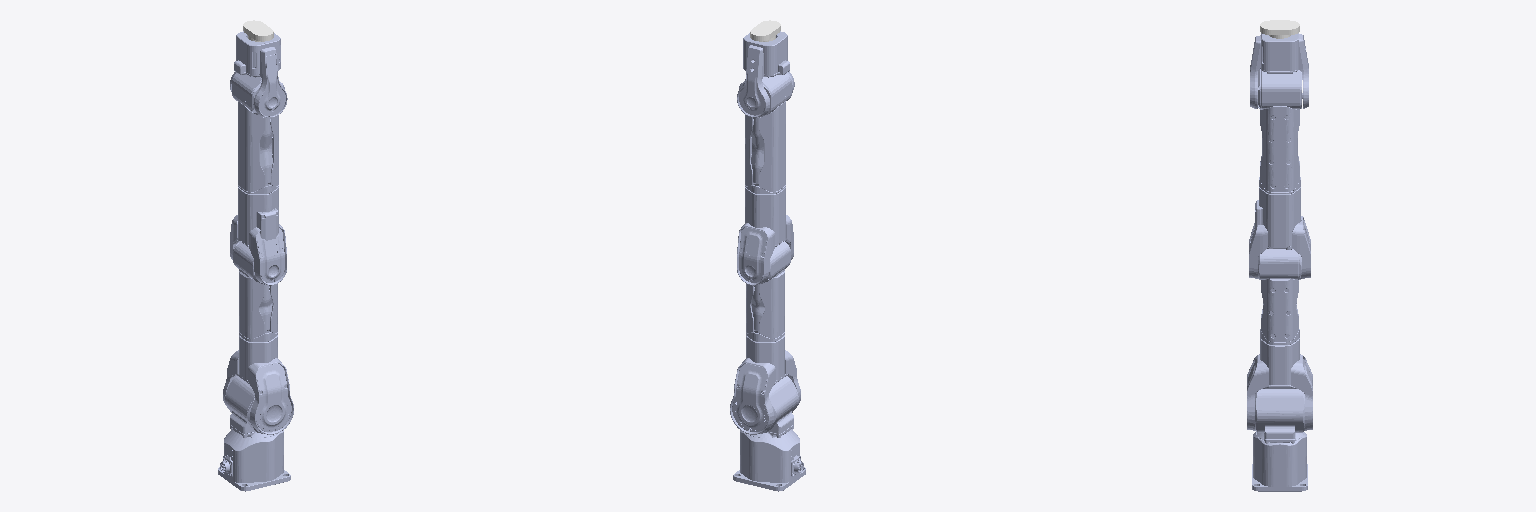
URDF robot description (xpkg_urdf_saber):
<?xml version="1.0" encoding="utf-8"?>
<!-- This URDF was automatically created by SolidWorks to URDF Exporter! Originally created by Stephen Brawner (brawner@gmail.com) 
     Commit Version: 1.6.0-4-g7f85cfe  Build Version: 1.6.7995.38578
     For more information, please see http://wiki.ros.org/sw_urdf_exporter -->
<robot name="xpkg_urdf_saber">
    <link name="base_link">
        <inertial>
            <origin xyz="0.000727949515048955 -5.69883664269332E-08 0.0406393454277163" rpy="0 0 0" />
            <mass value="0.556279812163046" />
            <inertia ixx="0.000590617003306285" ixy="4.35119563492651E-10" ixz="1.56046542788063E-05" iyy="0.0006676421462764" iyz="-8.87629683920929E-11" izz="0.000590125243389963" />
        </inertial>
        <visual>
            <origin xyz="0 0 0" rpy="0 0 0" />
            <geometry>
                <mesh filename="package://hex_ros_ik_saber_750d/urdf/meshes/base_link.STL" />
            </geometry>
             <material name="">
                <color rgba="0.792156862745098 0.819607843137255 0.933333333333333 1" />
            </material>
        </visual>
        <collision>
            <origin xyz="0 0 0" rpy="0 0 0" />
            <geometry>
                <mesh filename="package://hex_ros_ik_saber_750d/urdf/meshes/base_link.STL" />
            </geometry>
        </collision>
    </link>
    <link name="link_1">
        <inertial>
            <origin xyz="0.0380569188238271 -1.00405257210511E-05 0.00193157767349443" rpy="0 0 0" />
            <mass value="0.210052072515294" />
            <inertia ixx="0.000219613801652011" ixy="2.14295883024703E-10" ixz="-2.08661900718095E-06" iyy="0.000200657406924171" iyz="-4.75124852955826E-12" izz="0.000272022930816225" />
        </inertial>
        <visual>
            <origin xyz="0 0 0" rpy="0 0 0" />
            <geometry>
                <mesh filename="package://hex_ros_ik_saber_750d/urdf/meshes/link_1.STL" />
            </geometry>
             <material name="">
                <color rgba="0.792156862745098 0.819607843137255 0.933333333333333 1" />
            </material>
        </visual>
        <collision>
            <origin xyz="0 0 0" rpy="0 0 0" />
            <geometry>
                <mesh filename="package://hex_ros_ik_saber_750d/urdf/meshes/link_1.STL" />
            </geometry>
        </collision>
    </link>
    <joint name="joint_1" type="revolute">
        <origin xyz="0.008 0 0.085" rpy="1.5708 -1.5708 0" />
        <parent link="base_link" />
        <child link="link_1" />
        <axis xyz="1 0 0" />
        <limit lower="-2.07" upper="2.07" effort="0" velocity="0" />
    </joint>
    <link name="link_2">
        <inertial>
            <origin xyz="-1.75203555596425E-05 0.0677414565850336 0.00293368589914122" rpy="0 0 0" />
            <mass value="0.546006723511329" />
            <inertia ixx="0.000345709425927775" ixy="3.03772295527459E-08" ixz="6.84015684110725E-08" iyy="0.000191653297149786" iyz="-4.86188422315019E-08" izz="0.000455451241496624" />
        </inertial>
        <visual>
            <origin xyz="0 0 0" rpy="0 0 0" />
            <geometry>
                <mesh filename="package://hex_ros_ik_saber_750d/urdf/meshes/link_2.STL" />
            </geometry>
             <material name="">
                <color rgba="0.792156862745098 0.819607843137255 0.933333333333333 1" />
            </material>
        </visual>
        <collision>
            <origin xyz="0 0 0" rpy="0 0 0" />
            <geometry>
                <mesh filename="package://hex_ros_ik_saber_750d/urdf/meshes/link_2.STL" />
            </geometry>
        </collision>
    </link>
    <joint name="joint_2" type="revolute">
        <origin xyz="0.048 0 0" rpy="0 0 -1.5708" />
        <parent link="link_1" />
        <child link="link_2" />
        <axis xyz="0 0 -1" />
        <limit lower="-1.57" upper="1.57" effort="0" velocity="0" />
    </joint>
    <link name="link_3">
        <inertial>
            <origin xyz="0.0904931183819759 -0.00298465076083372 -0.000124658321724598" rpy="0 0 0" />
            <mass value="0.507512757354665" />
            <inertia ixx="0.000279446440854039" ixy="-3.33608066541714E-05" ixz="-4.69629980521365E-06" iyy="0.00127294463891755" iyz="-4.08730111467988E-06" izz="0.00124447090823196" />
        </inertial>
        <visual>
            <origin xyz="0 0 0" rpy="0 0 0" />
            <geometry>
                <mesh filename="package://hex_ros_ik_saber_750d/urdf/meshes/link_3.STL" />
            </geometry>
             <material name="">
                <color rgba="0.792156862745098 0.819607843137255 0.933333333333333 1" />
            </material>
        </visual>
        <collision>
            <origin xyz="0 0 0" rpy="0 0 0" />
            <geometry>
                <mesh filename="package://hex_ros_ik_saber_750d/urdf/meshes/link_3.STL" />
            </geometry>
        </collision>
    </link>
    <joint name="joint_3" type="revolute">
        <origin xyz="0 0.121 0" rpy="-0.14087 0.0047123 1.604" />
        <parent link="link_2" />
        <child link="link_3" />
        <axis xyz="1 0 0" />
        <limit lower="-2.79" upper="2.79" effort="0" velocity="0" />
    </joint>
    <link name="link_4">
        <inertial>
            <origin xyz="0.0660971954244285 1.34715312103545E-07 -0.000592942917765256" rpy="0 0 0" />
            <mass value="0.462861602611646" />
            <inertia ixx="0.000416473388437348" ixy="-6.10266734021719E-09" ixz="-4.30219101175296E-06" iyy="0.000944302504723845" iyz="5.74406059677713E-08" izz="0.000780559660017919" />
        </inertial>
        <visual>
            <origin xyz="0 0 0" rpy="0 0 0" />
            <geometry>
                <mesh filename="package://hex_ros_ik_saber_750d/urdf/meshes/link_4.STL" />
            </geometry>
            <material name="">
                <color rgba="0.792156862745098 0.819607843137255 0.933333333333333 1" />
            </material>
        </visual>
        <collision>
            <origin xyz="0 0 0" rpy="0 0 0" />
            <geometry>
                <mesh filename="package://hex_ros_ik_saber_750d/urdf/meshes/link_4.STL" />
            </geometry>
        </collision>
    </link>
    <joint name="joint_4" type="revolute">
        <origin xyz="0.13642 -0.0045787 0" rpy="-3.0006 0 -0.03355" />
        <parent link="link_3" />
        <child link="link_4" />
        <axis xyz="0 0 1" />
        <limit lower="-1.57" upper="1.57" effort="0" velocity="0" />
    </joint>
    <link name="link_5">
        <inertial>
            <origin xyz="0.102110507707808 -7.36927766003335E-05 2.37691998213243E-05" rpy="0 0 0" />
            <mass value="0.726565505856402" />
            <inertia ixx="0.000397963245903002" ixy="-4.78785002718304E-06" ixz="-1.11508538455264E-06" iyy="0.00338425816605582" iyz="-2.27005034989937E-07" izz="0.00338407321792173" />
        </inertial>
        <visual>
            <origin xyz="0 0 0" rpy="0 0 0" />
            <geometry>
                <mesh filename="package://hex_ros_ik_saber_750d/urdf/meshes/link_5.STL" />
            </geometry>
             <material name="">
                <color rgba="0.792156862745098 0.819607843137255 0.933333333333333 1" />
            </material>
        </visual>
        <collision>
            <origin xyz="0 0 0" rpy="0 0 0" />
            <geometry>
                <mesh filename="package://hex_ros_ik_saber_750d/urdf/meshes/link_5.STL" />
            </geometry>
        </collision>
    </link>
    <joint name="joint_5" type="revolute">
        <origin xyz="0.1325 0 0" rpy="1.5708 0 0" />
        <parent link="link_4" />
        <child link="link_5" />
        <axis xyz="1 0 0" />
        <limit lower="-2.79" upper="2.79" effort="0" velocity="0" />
    </joint>
    <link name="link_6">
        <inertial>
            <origin xyz="0.055643301868383 0.000254122535465515 0.000531191703078869" rpy="0 0 0" />
            <mass value="0.281670524443241" />
            <inertia ixx="0.000132725156471444" ixy="-1.35372027647478E-06" ixz="1.35321790740373E-09" iyy="0.000203534008832405" iyz="-1.51233313386899E-09" izz="0.000216964525176621" />
        </inertial>
        <visual>
            <origin xyz="0 0 0" rpy="0 0 0" />
            <geometry>
                <mesh filename="package://hex_ros_ik_saber_750d/urdf/meshes/link_6.STL" />
            </geometry>
             <material name="">
                <color rgba="0.792156862745098 0.819607843137255 0.933333333333333 1" />
            </material>
        </visual>
        <collision>
            <origin xyz="0 0 0" rpy="0 0 0" />
            <geometry>
                <mesh filename="package://hex_ros_ik_saber_750d/urdf/meshes/link_6.STL" />
            </geometry>
        </collision>
    </link>
    <joint name="joint_6" type="revolute">
        <origin xyz="0.17204 0 0" rpy="1.5708 0 0" />
        <parent link="link_5" />
        <child link="link_6" />
        <axis xyz="0 0 -1" />
        <limit lower="-1.57" upper="1.57" effort="0" velocity="0" />
    </joint>
    <link name="link_7">
        <inertial>
            <origin xyz="1.73472347597681E-18 -1.32137139771671E-19 0.0117461777308054" rpy="0 0 0" />
            <mass value="0.0295686940024556" />
            <inertia ixx="7.31988469402711E-06" ixy="-7.52400839589017E-22" ixz="3.53458271200406E-22" iyy="3.42285660750929E-06" iyz="-1.01554822215164E-22" izz="8.95181301289559E-06" />
        </inertial>
        <visual>
            <origin xyz="0 0 0" rpy="0 0 0" />
            <geometry>
                <mesh filename="package://hex_ros_ik_saber_750d/urdf/meshes/link_7.STL" />
            </geometry>
             <material name="">
                <color rgba="1 1 1 1" />
            </material>
        </visual>
        <collision>
            <origin xyz="0 0 0" rpy="0 0 0" />
            <geometry>
                <mesh filename="package://hex_ros_ik_saber_750d/urdf/meshes/link_7.STL" />
            </geometry>
        </collision>
    </link>
    <joint name="joint_7" type="revolute">
        <origin xyz="0.095 0 0" rpy="-1.5708 0 -1.5708" />
        <parent link="link_6" />
        <child link="link_7" />
        <axis xyz="0 0 1" />
        <limit lower="-3.14" upper="3.14" effort="0" velocity="0" />
    </joint>
</robot>

--- What the picture shows (computed from the rendered views, not written in the file) ---
3 views of the same robot in one strip: view 1: azimuth 30°, elevation 25°; view 2: azimuth 150°, elevation 25°; view 3: azimuth 270°, elevation 25° (orthographic).
Model xpkg_urdf_saber with 8 links and 7 joints (7 revolute), rooted at base_link, posed every joint at zero.
Visible links, largest first — view 1: link_2, link_5, link_4, base_link, link_3, link_6, link_1; view 2: link_2, link_5, link_4, base_link, link_3, link_6, link_1; view 3: link_5, link_3, link_4, link_2, base_link, link_1, link_6, link_7.
Link boxes in pixels (x1,y1,x2,y2): link_2: (223,335,293,434); link_5: (232,73,284,193); link_4: (230,187,286,285); base_link: (218,429,290,491); link_3: (233,241,277,341); link_6: (230,31,287,117); link_1: (225,376,286,437); link_2: (730,335,800,434); link_5: (739,73,791,193); link_4: (737,187,793,285); base_link: (733,429,805,491); link_3: (746,241,790,341); link_6: (737,31,794,117); link_1: (737,376,798,437); link_5: (1258,69,1302,193); link_3: (1258,249,1301,344); link_4: (1249,187,1310,278); link_2: (1247,338,1312,430); base_link: (1252,432,1307,491); link_1: (1255,389,1304,443); link_6: (1250,33,1308,108); link_7: (1260,20,1299,38).
Bounding box of the posed robot: 0.1095 × 0.107 × 0.81 m (x, y, z).
8 mesh visuals loaded from 8 distinct referenced files (8 binary STL).
